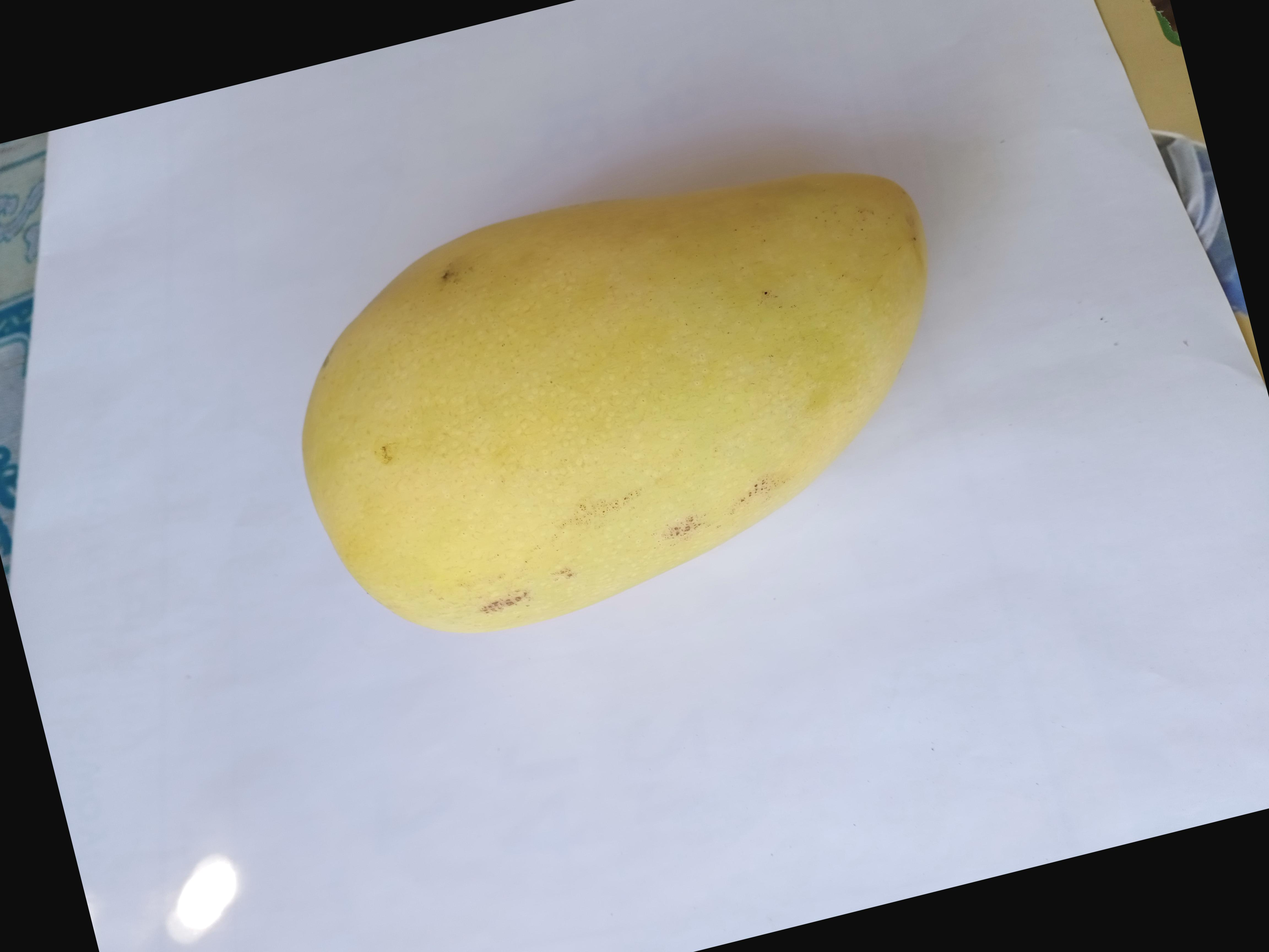Mango Ripe: (62, 272, 917, 932)
